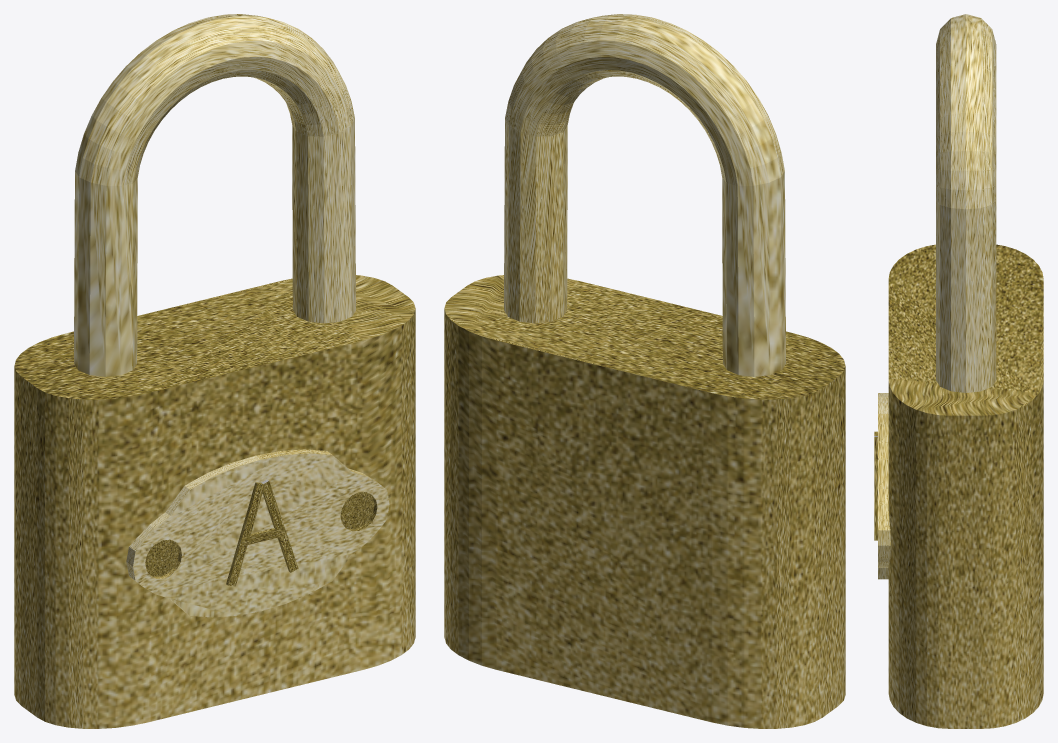
The model's file is lock.obj.
3 renders of one model, left to right at view 1: azimuth 30°, elevation 25°; view 2: azimuth 150°, elevation 25°; view 3: azimuth 270°, elevation 25°, orthographic. The views are drawn at different scales.
Visible parts, largest first — view 1: Torus; view 2: Torus; view 3: Torus.
Boxes of the visible parts, x1,y1,x2,y2 form: Torus: (14,14,415,728); Torus: (444,14,845,728); Torus: (874,14,1043,728).
Size of the model in its own units: 2.9 by 4.82 by 1.2.
Materials: 2 (2 with a texture image).
